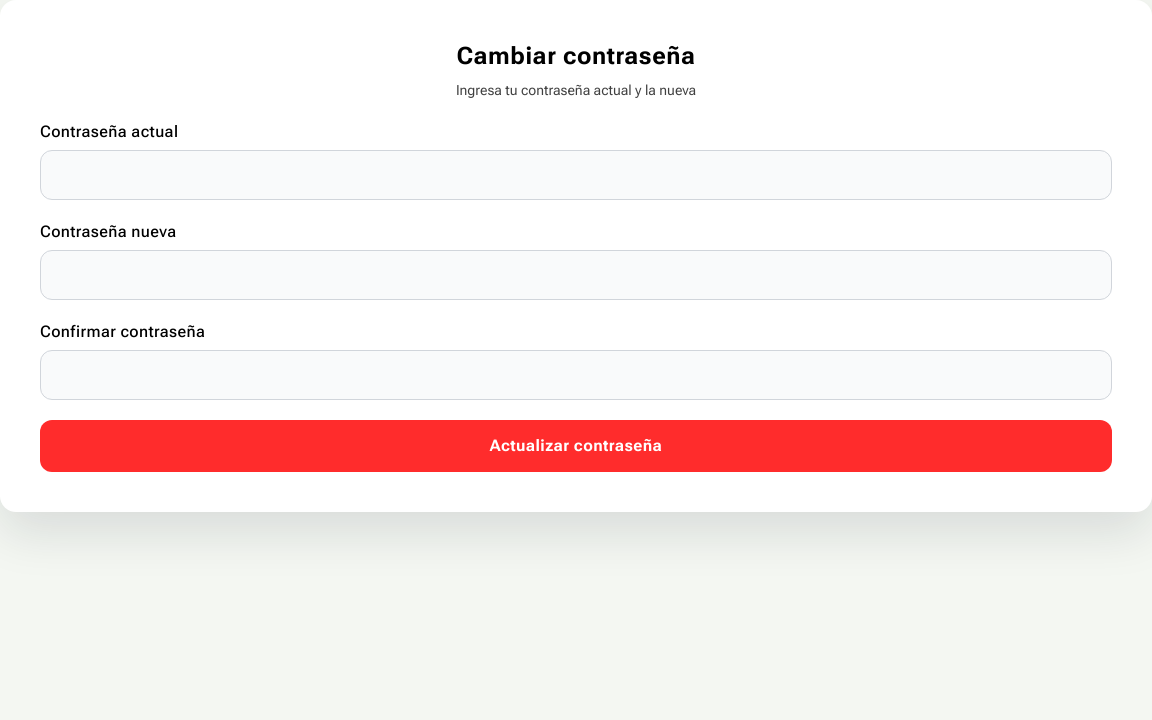
Test: ChangePasswordForm › valida la confirmacion y muestra error
Type "OldPass1!" into the 1st password field at (576, 175), box left=40, top=150, right=1112, bottom=200
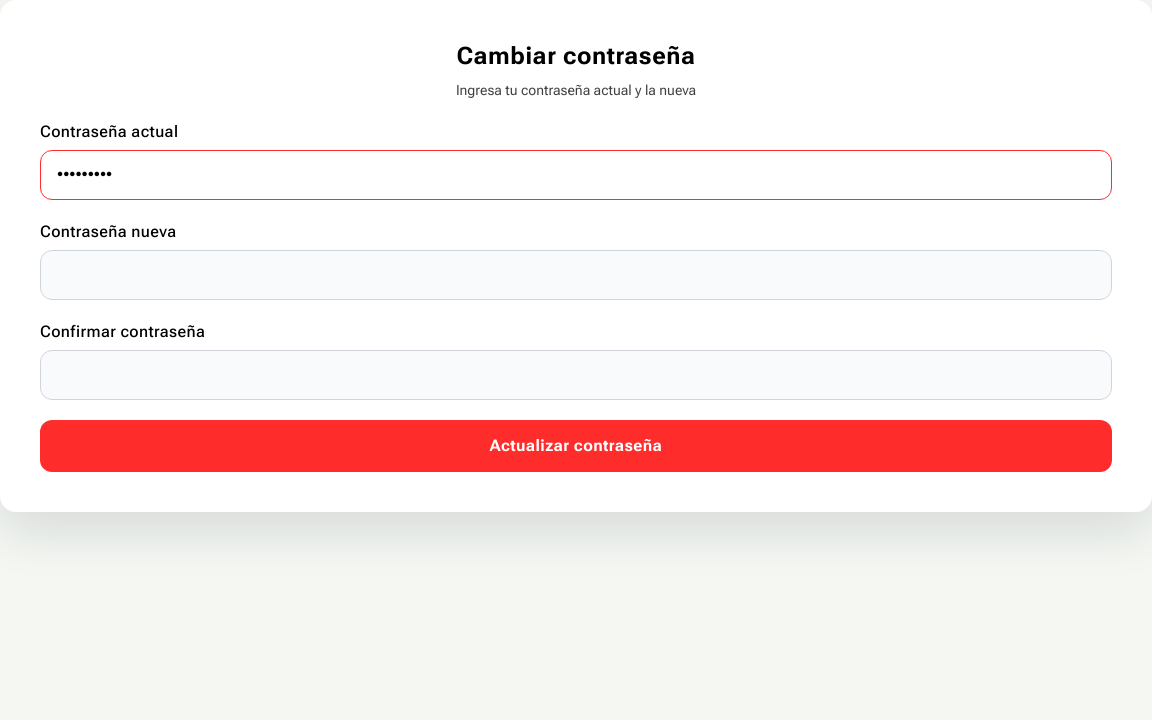
Type "NewPass1!" into the password field below "Contraseña nueva" at (576, 275), box left=40, top=250, right=1112, bottom=300
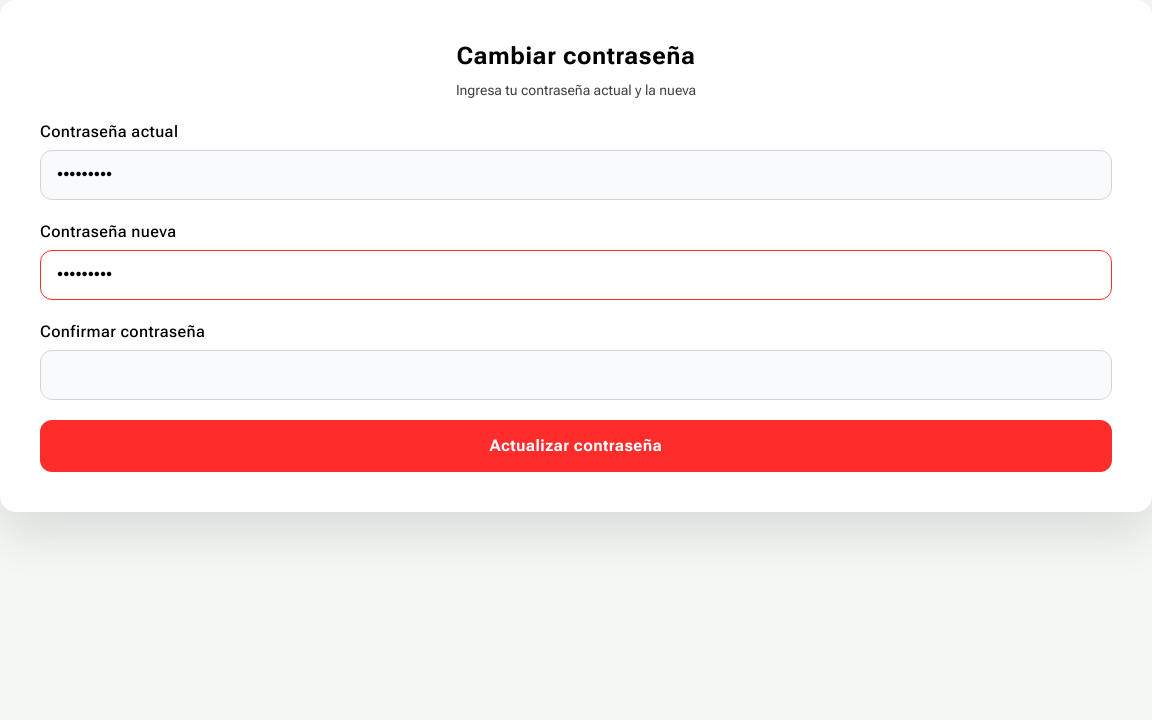
Type "Mismatch1!" into the password field below "Confirmar contraseña" at (576, 375), box left=40, top=350, right=1112, bottom=400
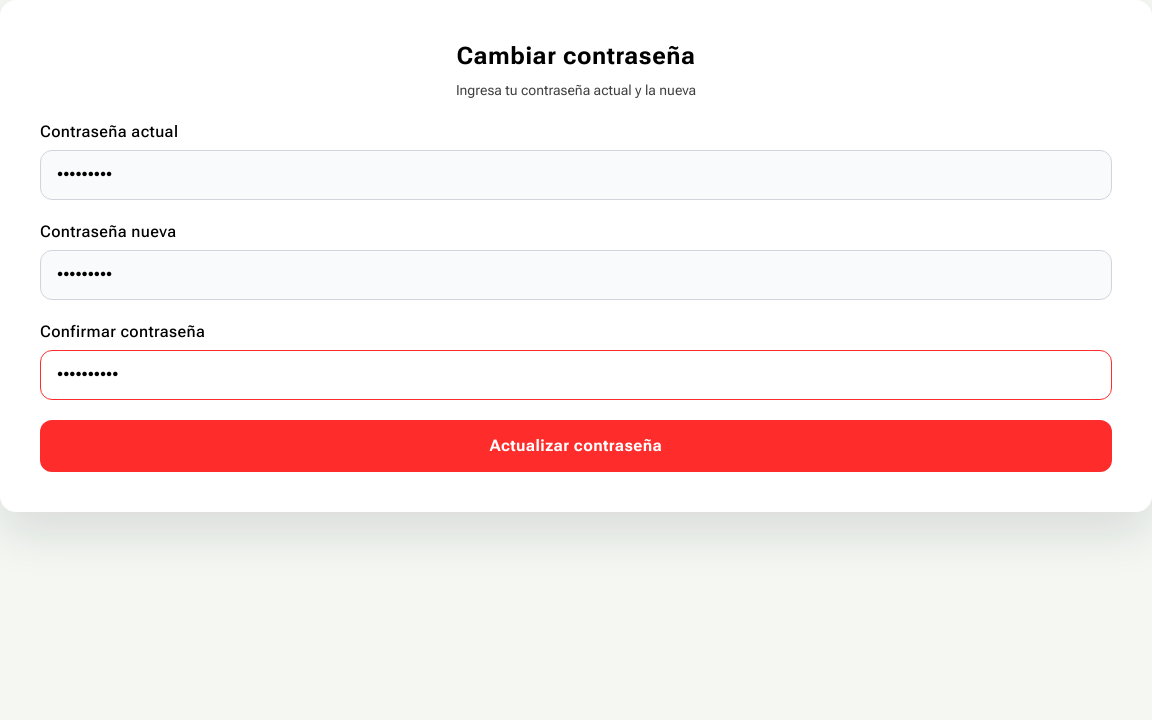
Click the button "Actualizar contraseña" at (576, 446), box left=40, top=420, right=1112, bottom=472
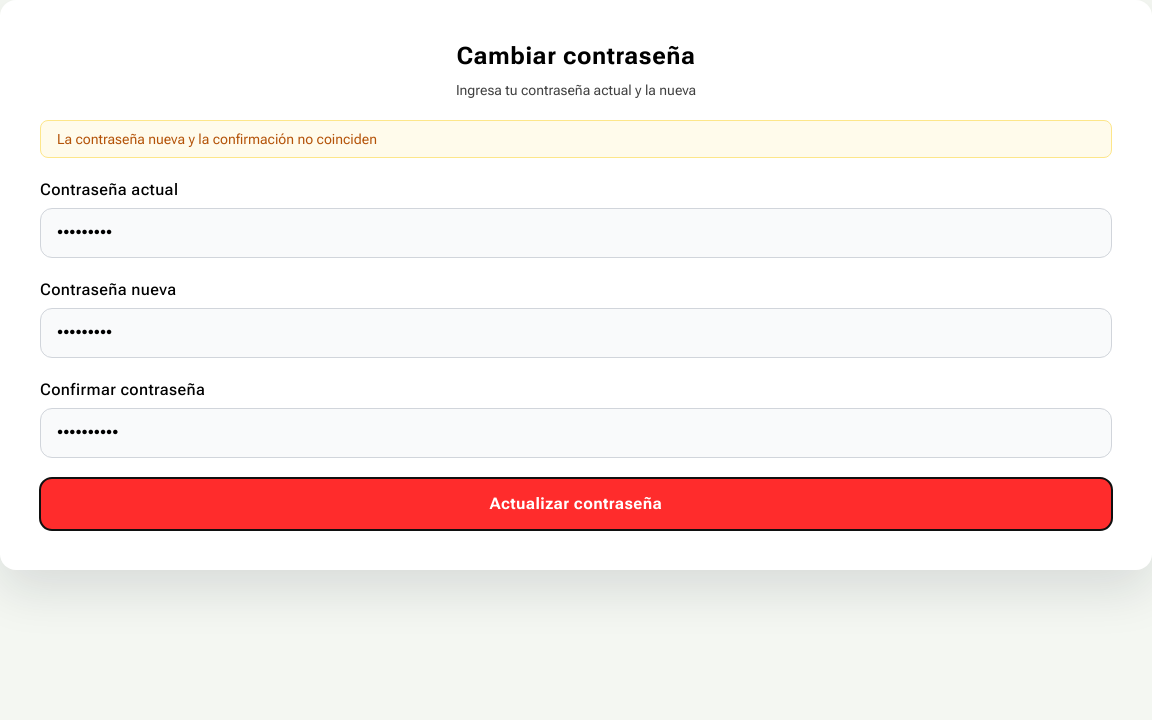
Expected: the text "La contraseña nueva y la confirmación no coinciden" is shown, left=40, top=120, right=1112, bottom=158
